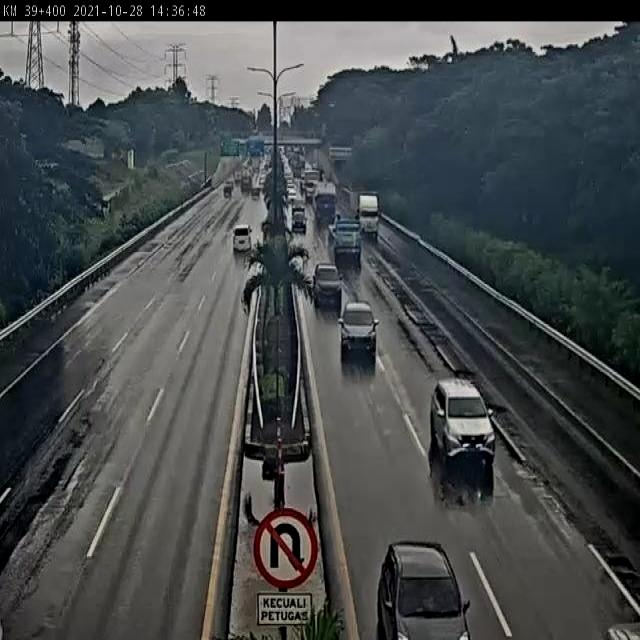Car: (378, 539, 472, 640), (431, 378, 496, 468), (336, 302, 379, 355), (312, 263, 343, 307)
Truck: (326, 213, 364, 266), (350, 189, 383, 239), (312, 182, 338, 225), (290, 199, 308, 234), (303, 168, 322, 199), (240, 165, 253, 192), (252, 157, 261, 173), (234, 170, 242, 183)
Van: (232, 223, 252, 256)
